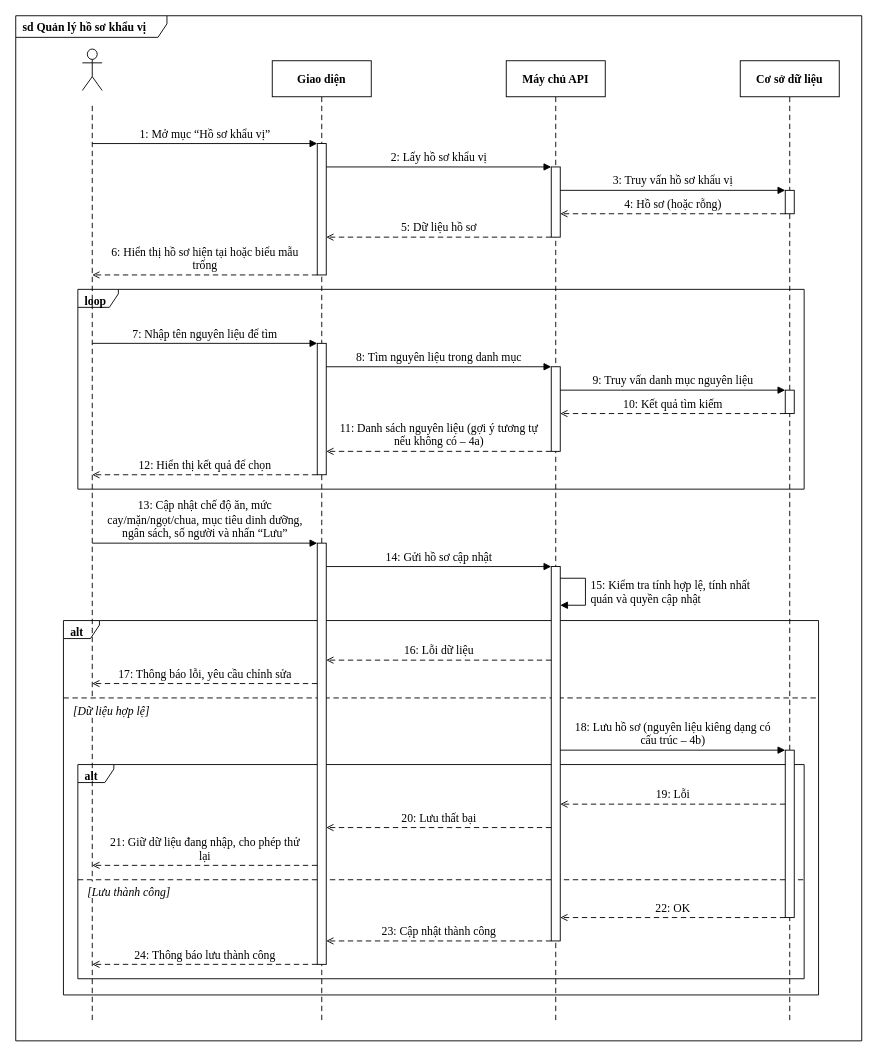
Image size: 878x1057. Some labels were removed from this diagram. The shapes that lost their labels are listed below. From the top down, each one's centre as x and y in pixels, then its label:
At point (91, 69): "Người dùng".
At point (213, 306): "[Thêm / sửa / xóa tùy chọn nguyên liệu]".
At point (186, 630): "[Dữ liệu không hợp lệ (3a, 6a)]".
At point (167, 774): "[Lỗi khi lưu (7a)]".
